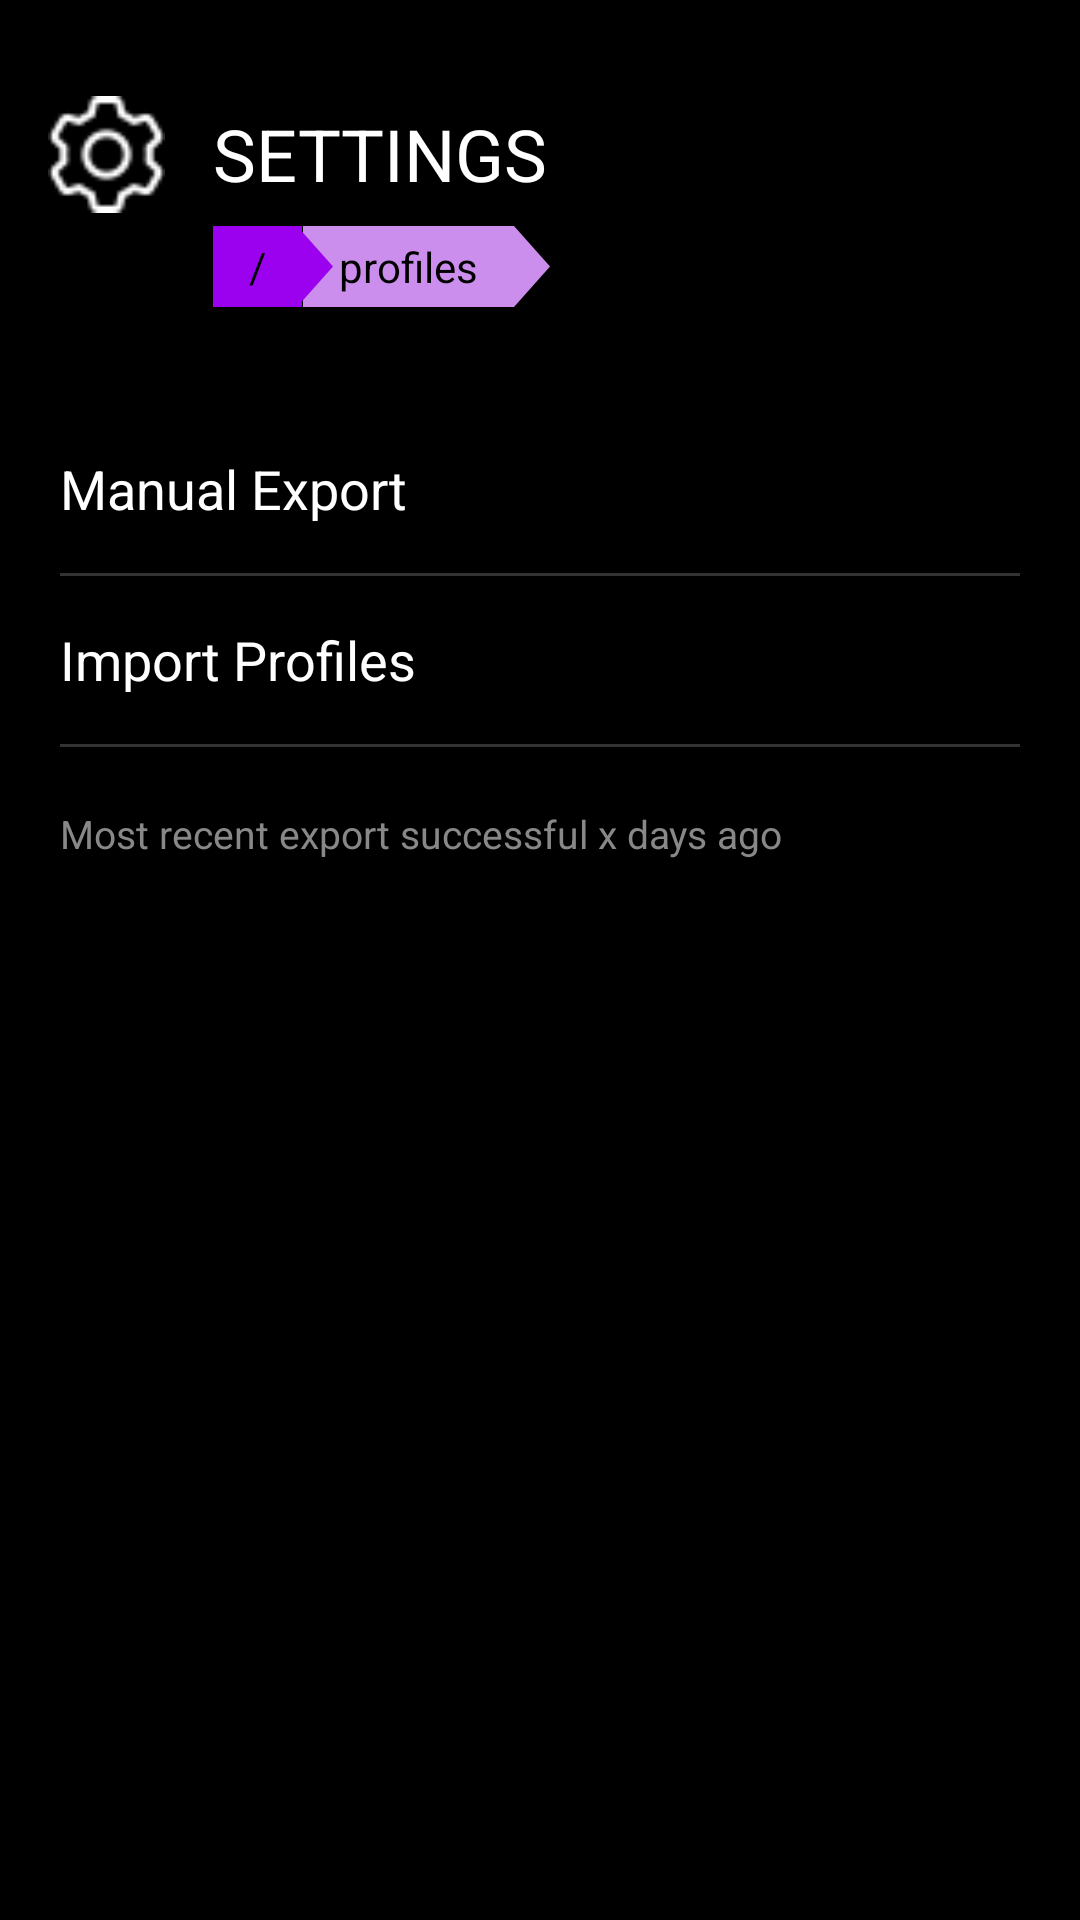

Icon click points for this 1080×1920 phone screenshot, format (x,y):
cogwheel: (106,154)
